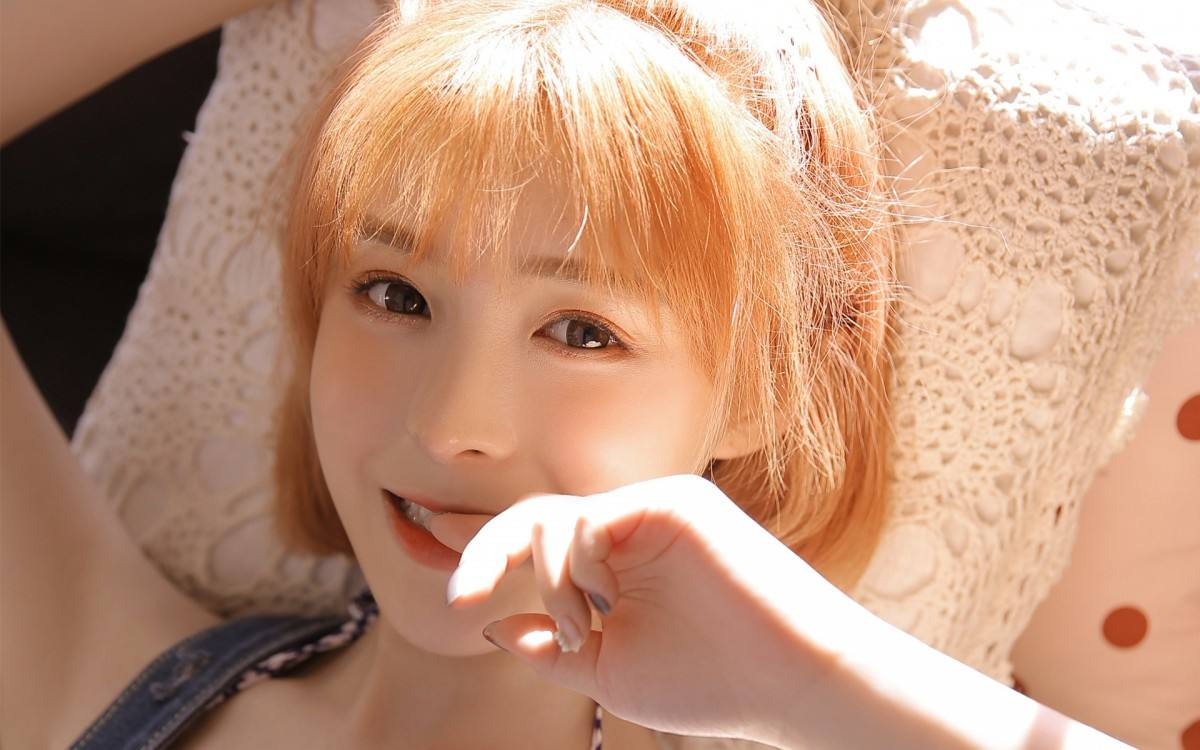person: (279, 19, 892, 626)
